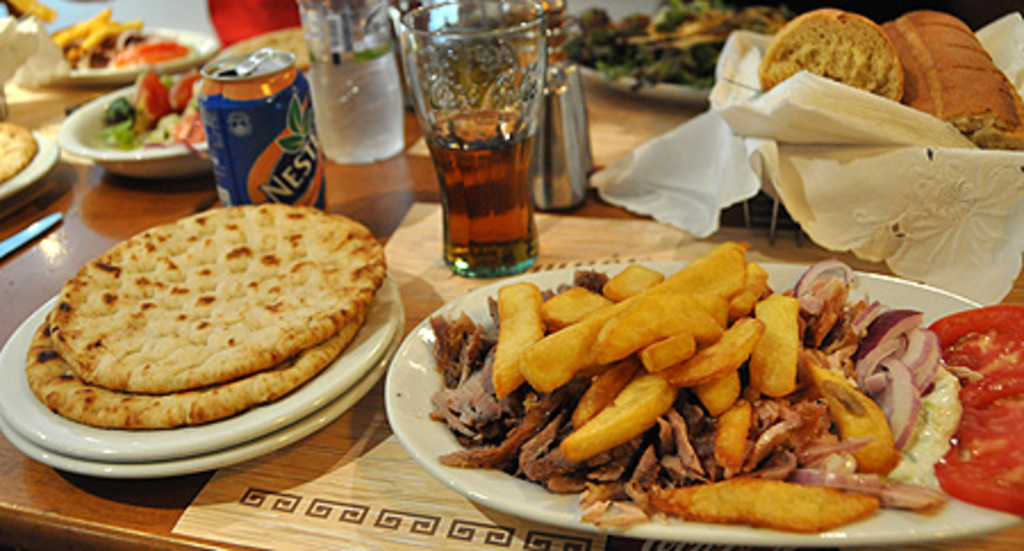French fries: (459, 252, 898, 510)
